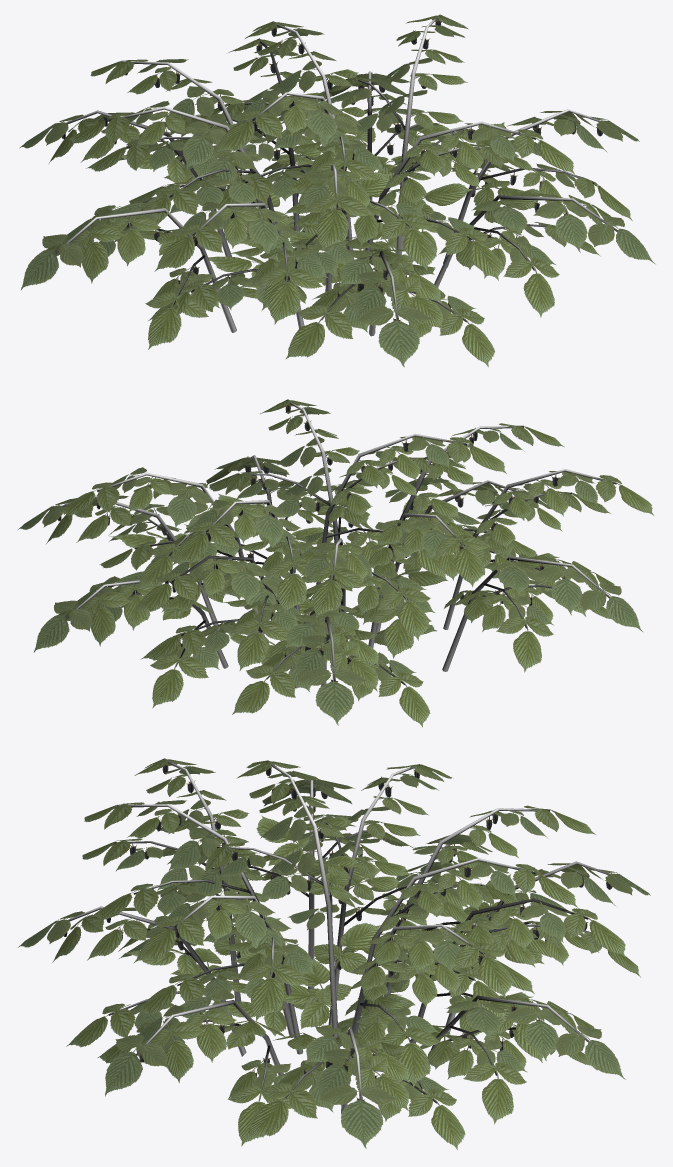
File: PW_Plants_Berry_Bushes_04.fbx
3 renders of one model, top to bottom at view 1: azimuth 30°, elevation 25°; view 2: azimuth 150°, elevation 25°; view 3: azimuth 270°, elevation 25°, orthographic. The views are drawn at different scales.
Visible parts, largest first — view 1: PW_Plants_Berry_Bushes_04_LOD0; view 2: PW_Plants_Berry_Bushes_04_LOD0; view 3: PW_Plants_Berry_Bushes_04_LOD0.
Part boxes in pixels (x1,y1,x2,y2): PW_Plants_Berry_Bushes_04_LOD0: (19,14,655,367); PW_Plants_Berry_Bushes_04_LOD0: (18,399,654,727); PW_Plants_Berry_Bushes_04_LOD0: (18,758,650,1149).
Size of what is drawn, in the model's own units: 262 by 95.36 by 219.
2 materials, 1 textured.
